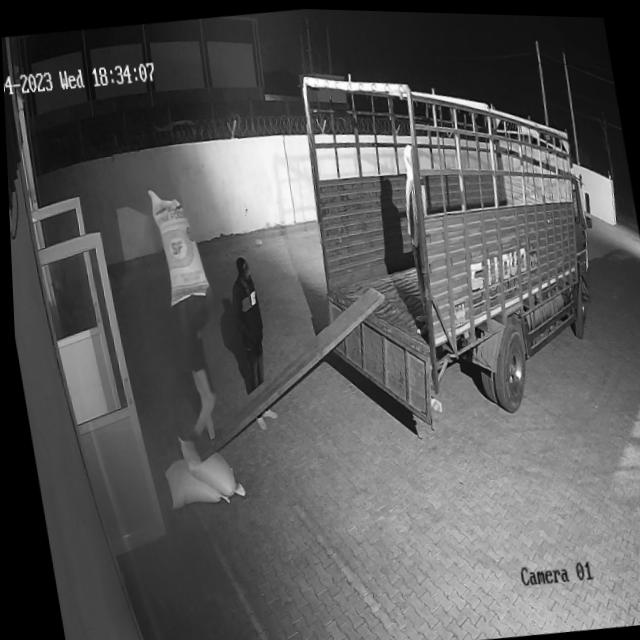sack: (145, 181, 210, 307), (171, 426, 243, 502), (157, 451, 226, 511)
